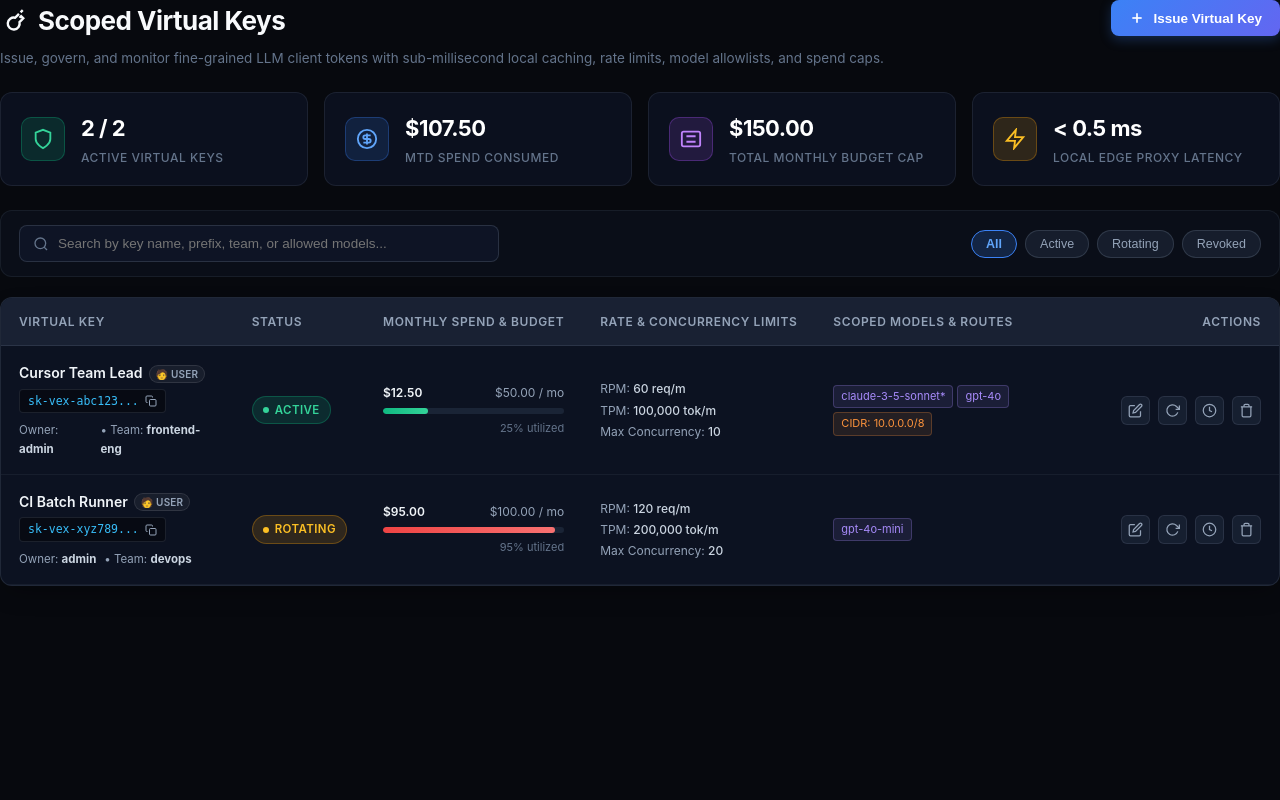
Test: VirtualKeys View › displays API error inside the modal on failure without closing modal
The image size is (1280, 800).
Check: the text "Cursor Team Lead" is shown, box left=19, top=362, right=143, bottom=385
Note: Open modal
Click the button "Issue Virtual Key": point(1196, 18) left=1111, top=0, right=1279, bottom=36
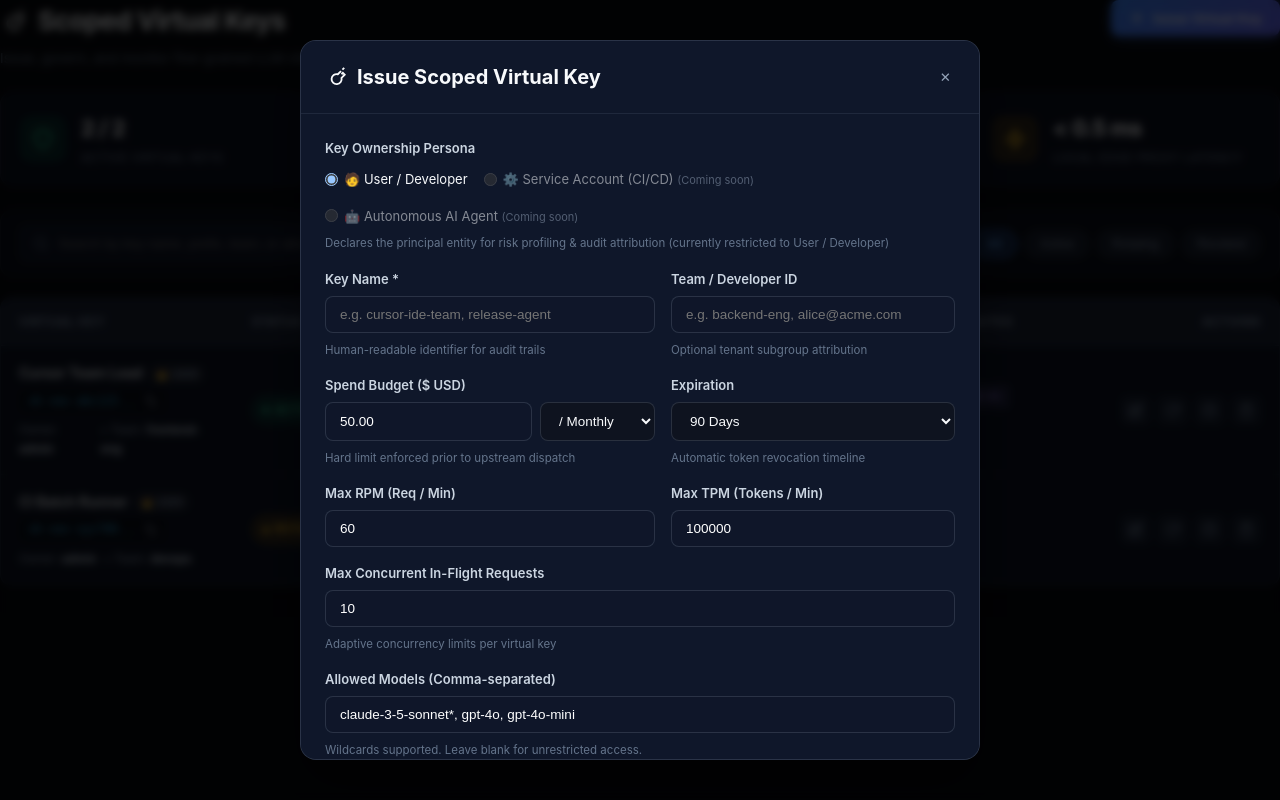
Note: Fill name
In the field with placeholder "e.g. cursor-ide-team, release-agent": point(490, 314) left=325, top=296, right=655, bottom=333, type "Test Failure Key"
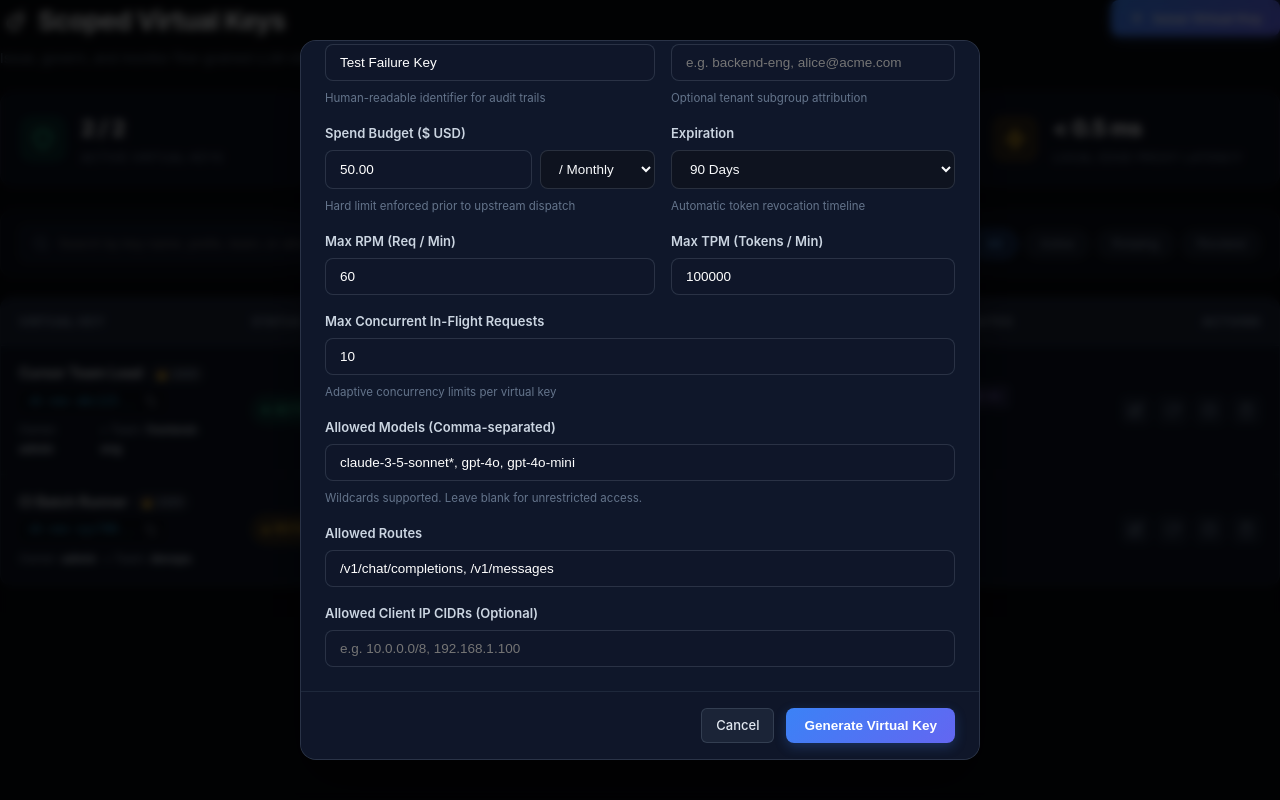
Click the button "Generate Virtual Key": point(871, 725) left=786, top=708, right=955, bottom=743
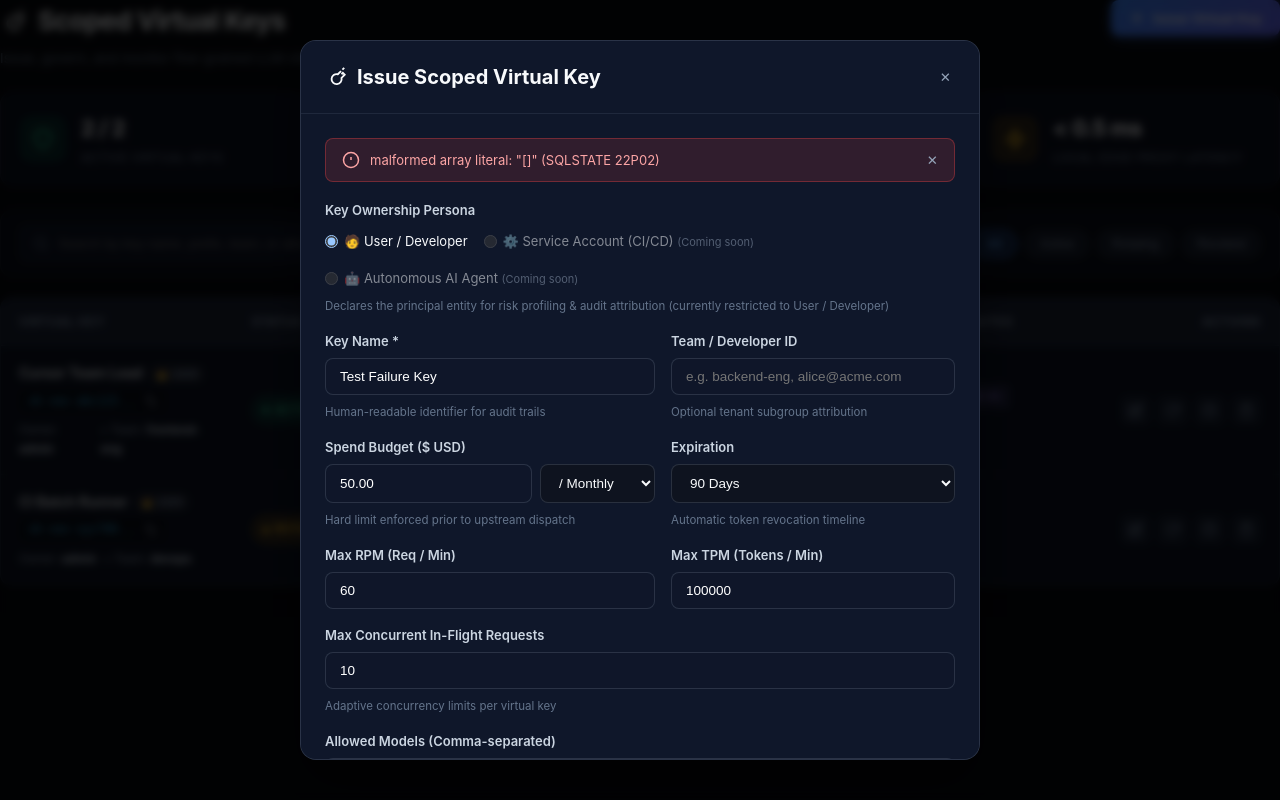
Check: the message "malformed array literal: \"[]\" (SQLSTATE 22P02) ✕" is shown, box left=325, top=138, right=955, bottom=182
Check: the text "malformed array literal: \"[]\" (SQLSTATE 22P02)" is shown, box left=370, top=152, right=660, bottom=168
Check: the heading "Issue Scoped Virtual Key" is shown, box left=325, top=61, right=601, bottom=93
